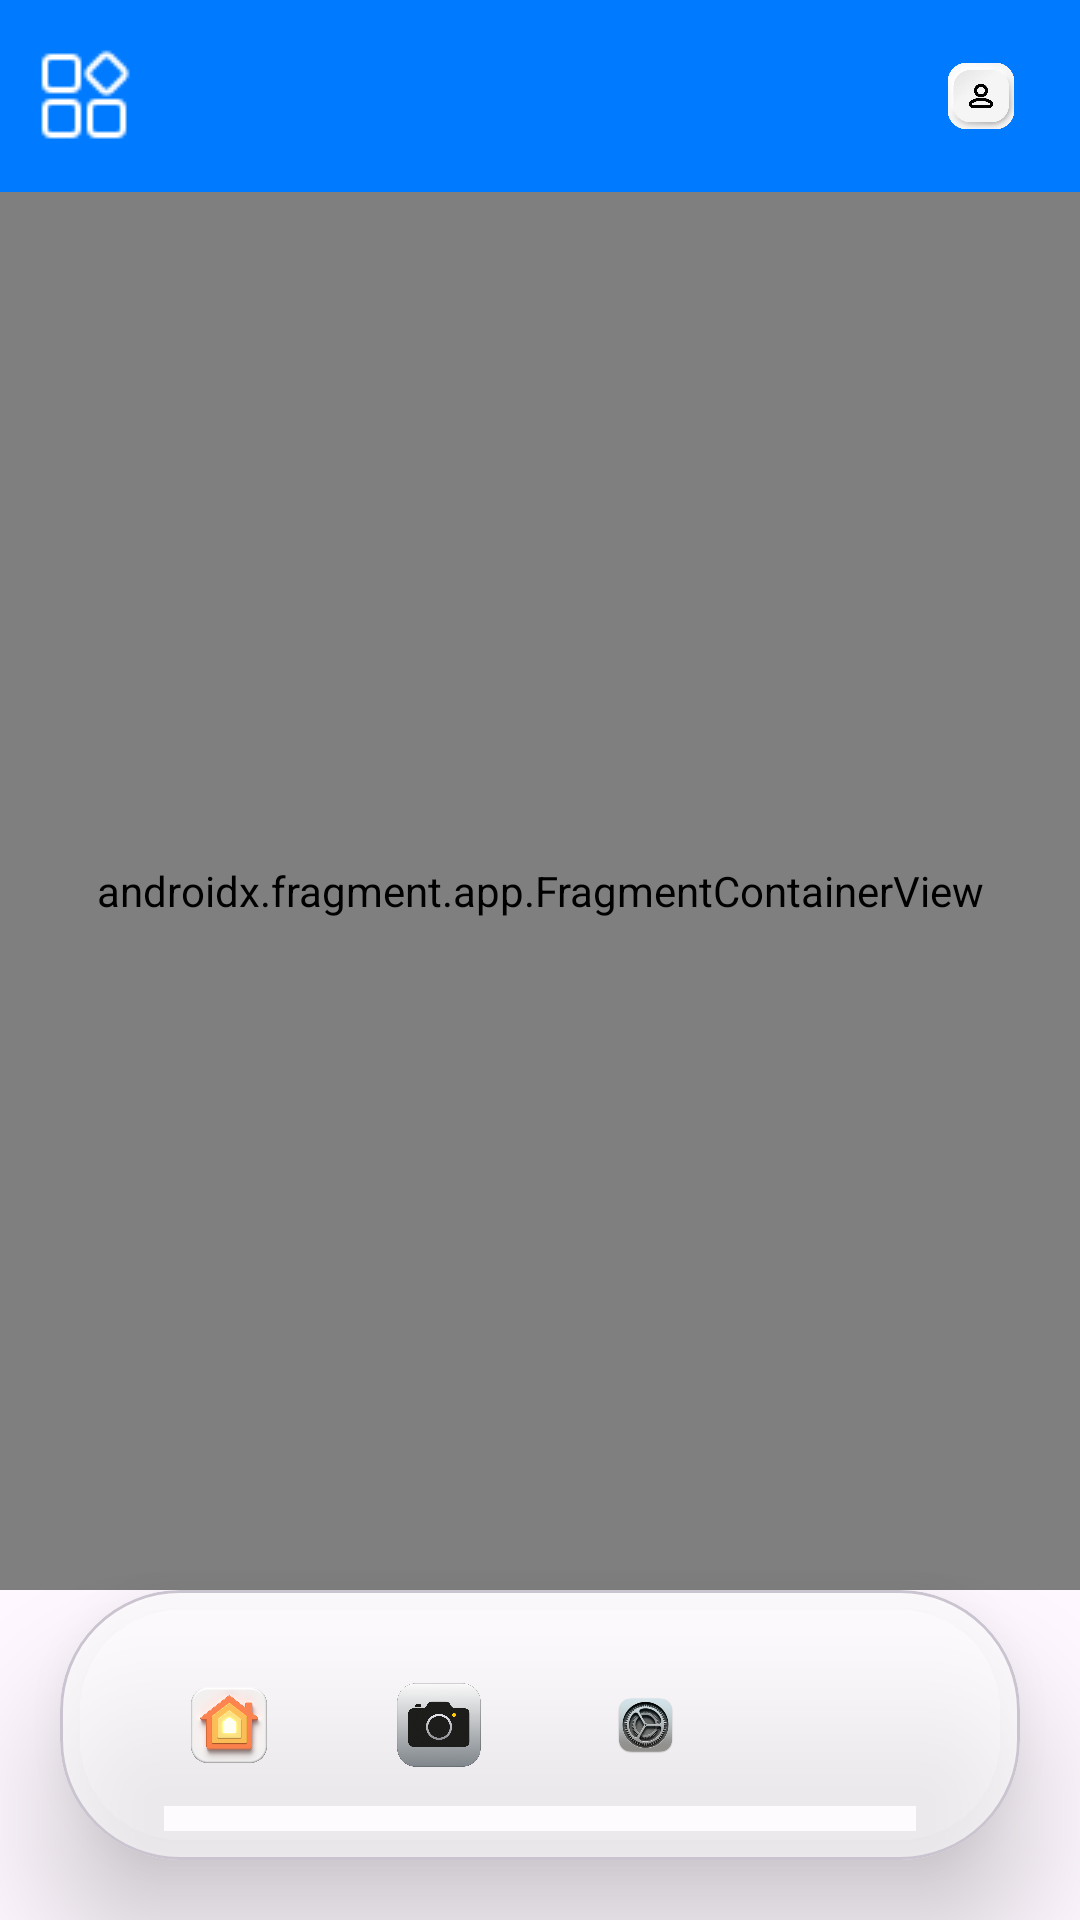

Icons on this 1080*1920 Android screen, each with the point to tap as point (x, y):
user: point (981, 96)
